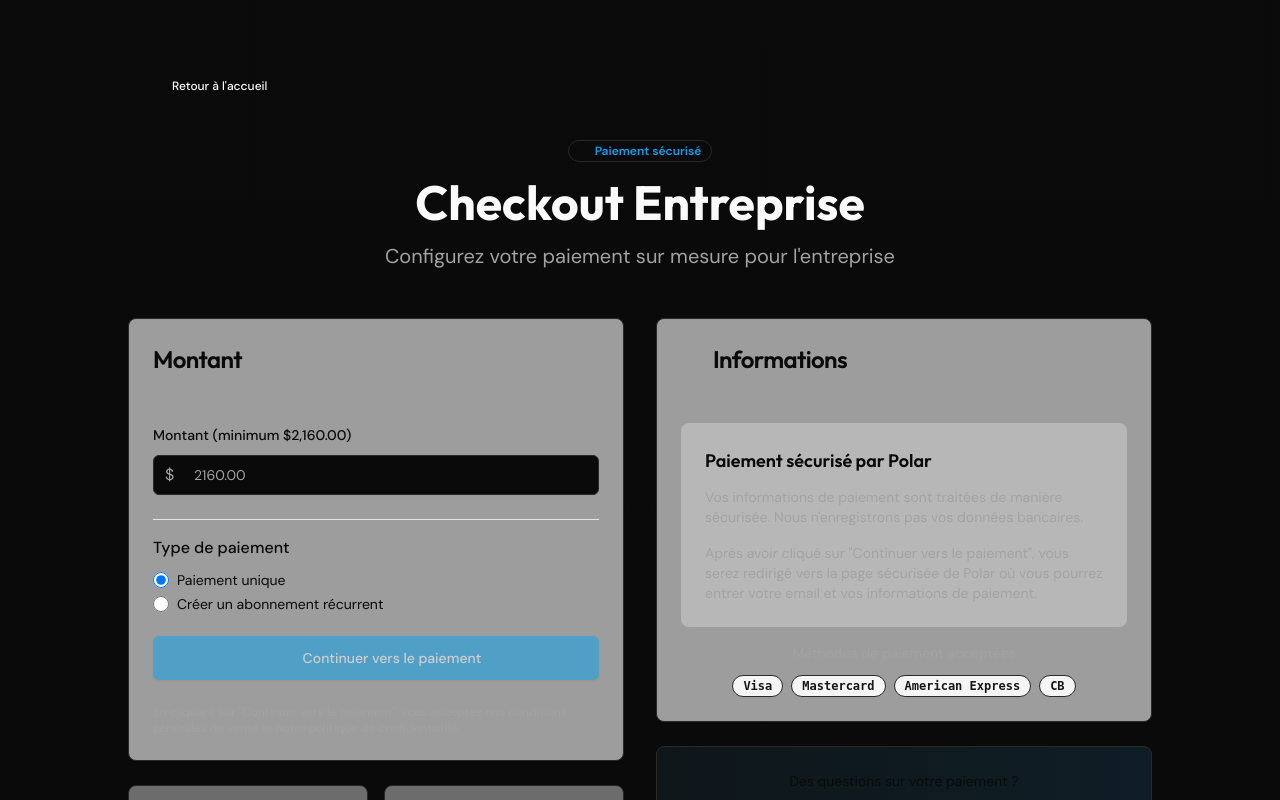
it: CheckoutEnterprise page › shows validation error for amounts below minimum
Type "1000" into the field labelled "Montant (minimum $2,160.00)" at (376,475), box [153, 455, 599, 495]
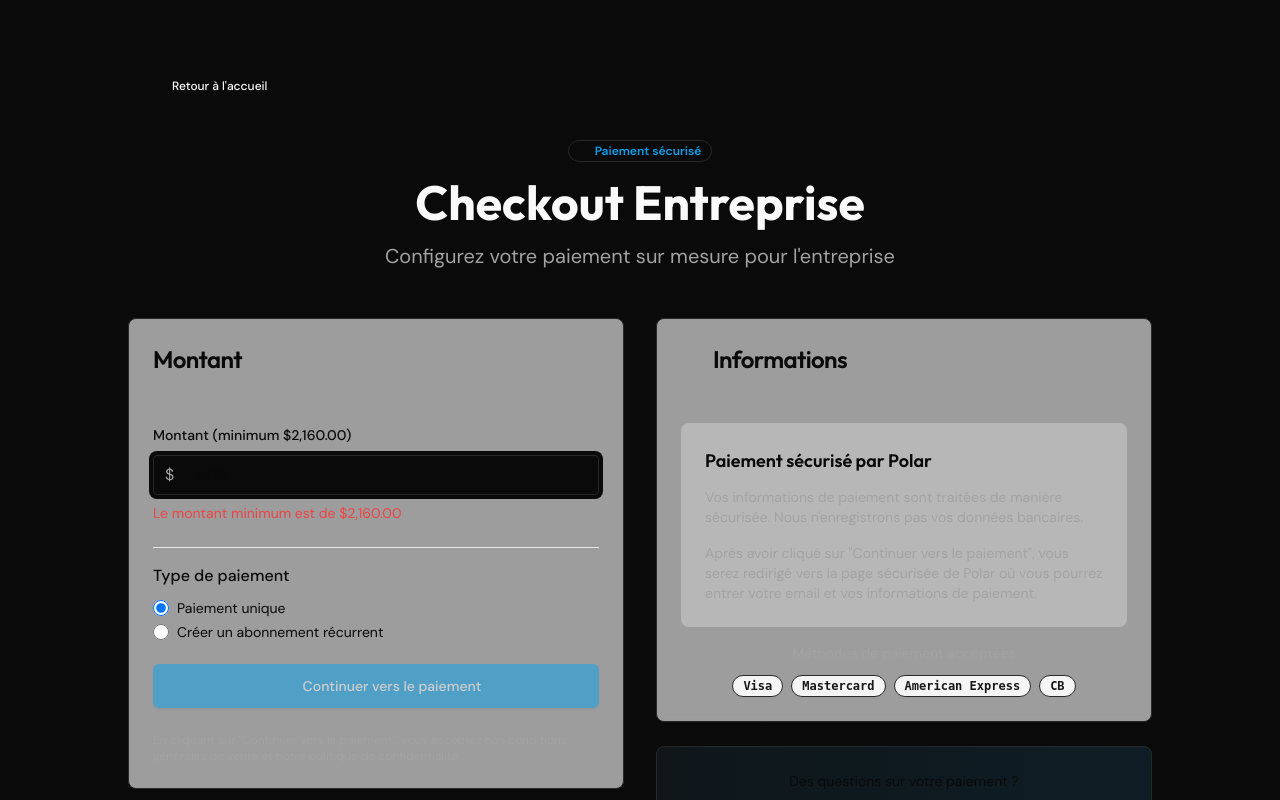
Expected: the text "Le montant minimum est de $2,160.00" is shown, [153, 504, 402, 522]
